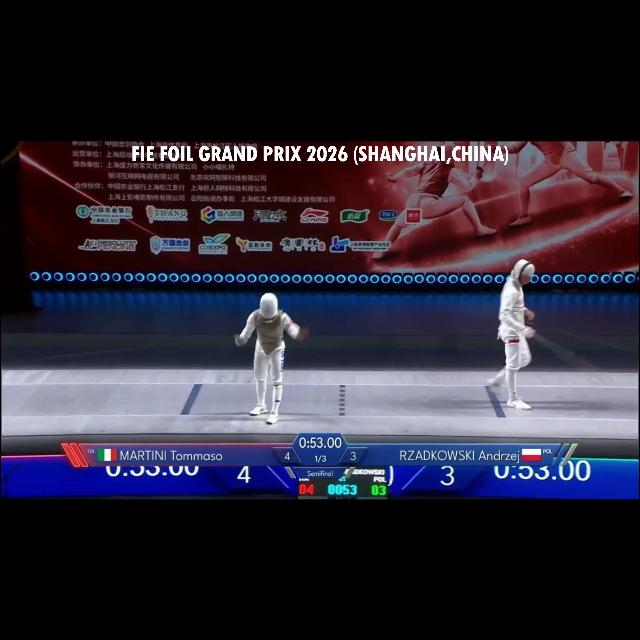blade: (524, 326, 600, 374)
